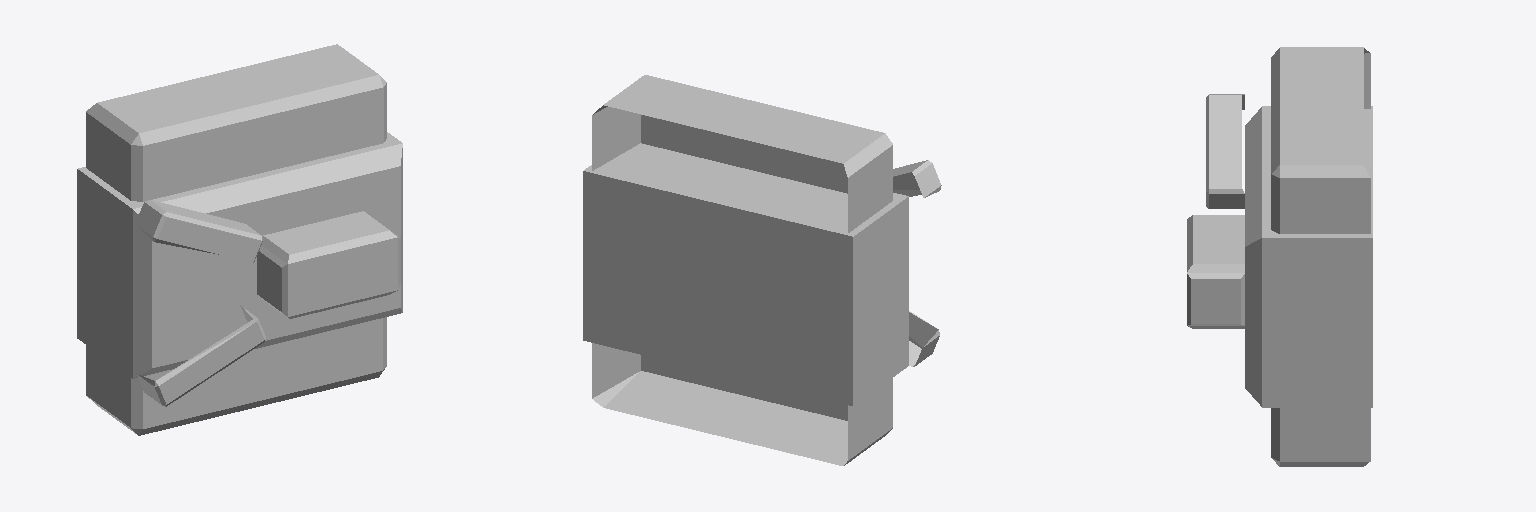
Rendered from drone2.obj.
3 renders of one model, left to right at view 1: azimuth 30°, elevation 25°; view 2: azimuth 150°, elevation 25°; view 3: azimuth 270°, elevation 25°, orthographic.
Parts seen in each view (by area): view 1: Object.1, Object.3, Object.2, Object.4, Object.6, Object.5; view 2: Object.1, Object.3, Object.2, Object.6, Object.5; view 3: Object.1, Object.3, Object.4, Object.2, Object.6.
Part boxes in pixels (x1,y1,x2,y2): Object.1: (77,132,402,378); Object.3: (86,44,386,201); Object.2: (86,317,386,435); Object.4: (257,211,400,318); Object.6: (135,200,262,262); Object.5: (137,305,265,406); Object.1: (583,143,908,406); Object.3: (592,75,892,232); Object.2: (592,343,892,465); Object.6: (893,160,941,197); Object.5: (909,311,939,366); Object.1: (1245,106,1372,407); Object.3: (1271,47,1370,233); Object.4: (1187,215,1244,328); Object.2: (1271,408,1370,466); Object.6: (1206,94,1244,208).
Size of the model in its own units: 64.17 by 67.11 by 37.48.